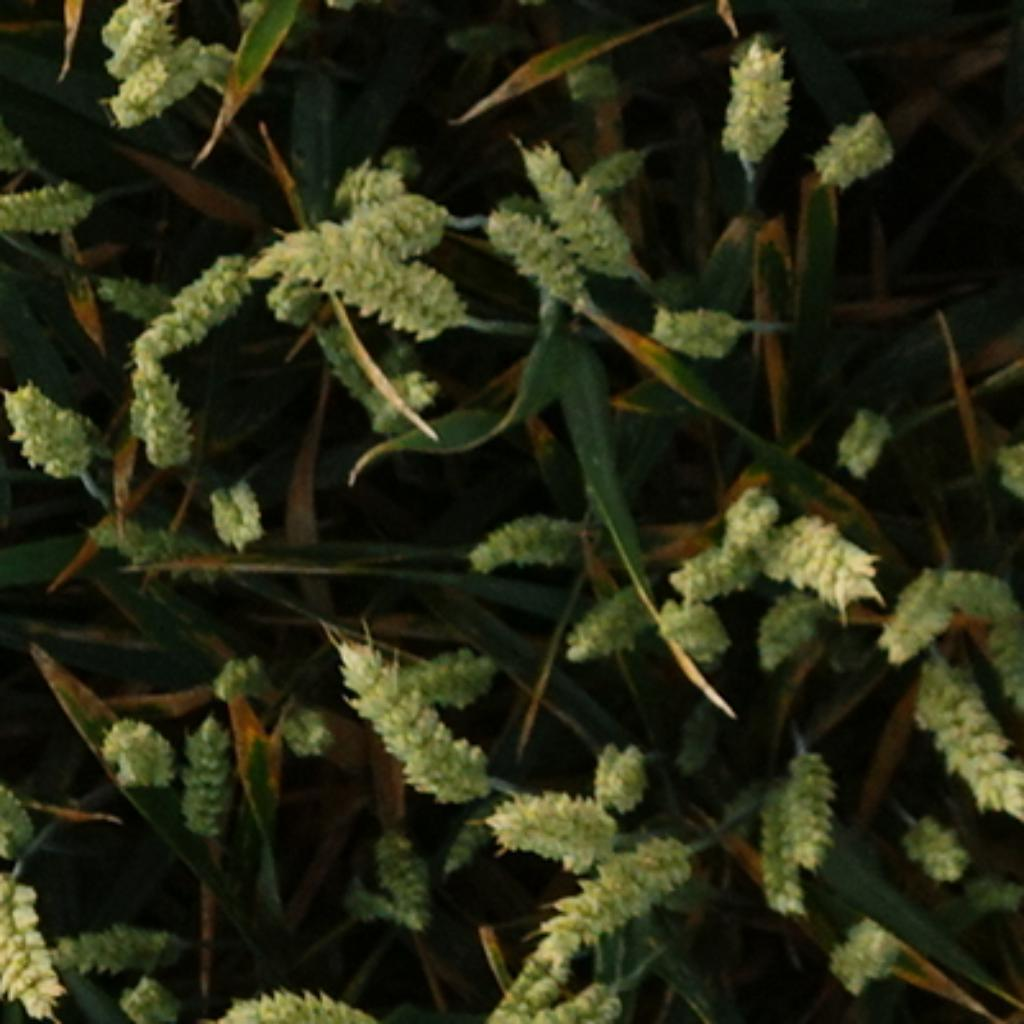0-0: (266, 179, 468, 345), (330, 632, 506, 801), (532, 826, 701, 960), (499, 135, 637, 286), (898, 647, 1024, 808), (291, 156, 453, 279), (775, 713, 879, 876), (138, 225, 261, 340), (481, 202, 596, 325), (750, 496, 883, 601), (87, 517, 240, 593), (483, 775, 619, 860), (2, 363, 104, 473), (711, 28, 798, 153), (302, 330, 401, 437), (460, 496, 596, 570), (2, 857, 66, 1011), (108, 27, 203, 130), (560, 565, 665, 657), (366, 637, 501, 706), (174, 704, 245, 834), (125, 345, 204, 460), (757, 780, 816, 931), (209, 975, 399, 1021), (358, 819, 440, 924), (645, 284, 752, 358), (56, 908, 179, 972), (808, 99, 903, 181), (875, 563, 954, 660), (486, 937, 572, 1024), (366, 366, 455, 448), (829, 384, 901, 483), (440, 778, 499, 893), (934, 555, 1024, 629), (94, 704, 176, 785), (99, 1, 181, 82), (2, 168, 99, 235), (650, 604, 742, 673), (824, 911, 906, 988), (670, 542, 770, 604), (890, 803, 970, 880), (322, 145, 407, 217), (750, 583, 834, 655), (979, 606, 1024, 737), (197, 471, 268, 550), (547, 51, 637, 110), (524, 980, 642, 1024), (330, 883, 430, 934), (670, 699, 729, 784), (92, 263, 176, 322), (2, 765, 58, 849), (724, 481, 783, 558), (204, 647, 279, 706), (591, 734, 652, 806), (266, 271, 327, 335), (273, 701, 330, 768), (576, 138, 647, 189), (115, 967, 181, 1018), (954, 872, 1024, 913), (378, 133, 430, 181), (463, 0, 565, 2)
